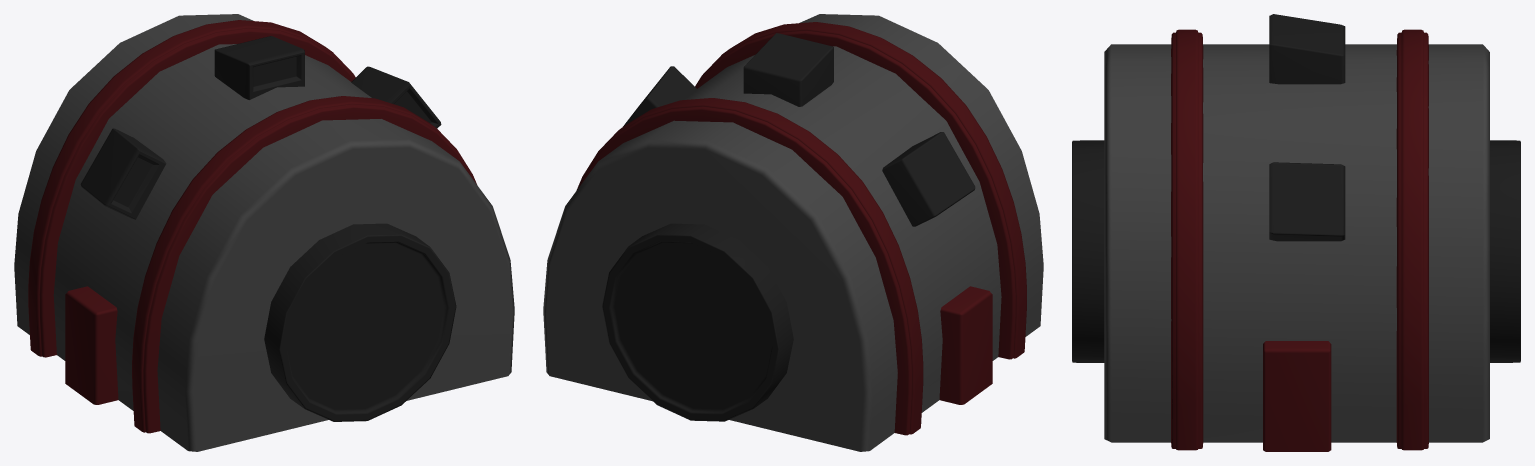
Rendered from colony_Decontamination_section.glb.
3 views of the same model, side by side, from view 1: azimuth 30°, elevation 25°; view 2: azimuth 150°, elevation 25°; view 3: azimuth 270°, elevation 25° (orthographic). The views are drawn at different scales.
Visible parts, largest first — view 1: Decontamination_section; view 2: Decontamination_section; view 3: Decontamination_section.
Boxes of the visible parts, left/top/right/bottom form: Decontamination_section: left=14, top=14, right=514, bottom=451; Decontamination_section: left=543, top=14, right=1043, bottom=451; Decontamination_section: left=1072, top=14, right=1520, bottom=451.
Size of the model in its own units: 564 by 446 by 553.
Materials: 1 (1 with a texture image).
